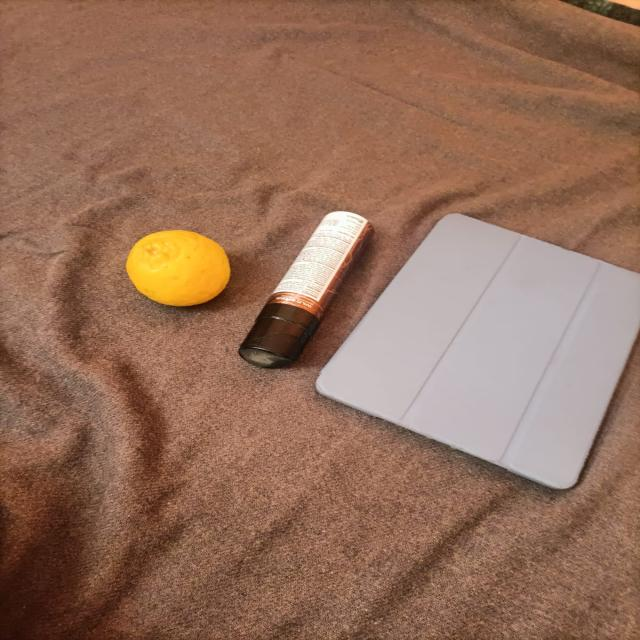orange: (106, 224, 245, 319)
spray: (235, 180, 399, 396)
tablet: (298, 164, 629, 483)
